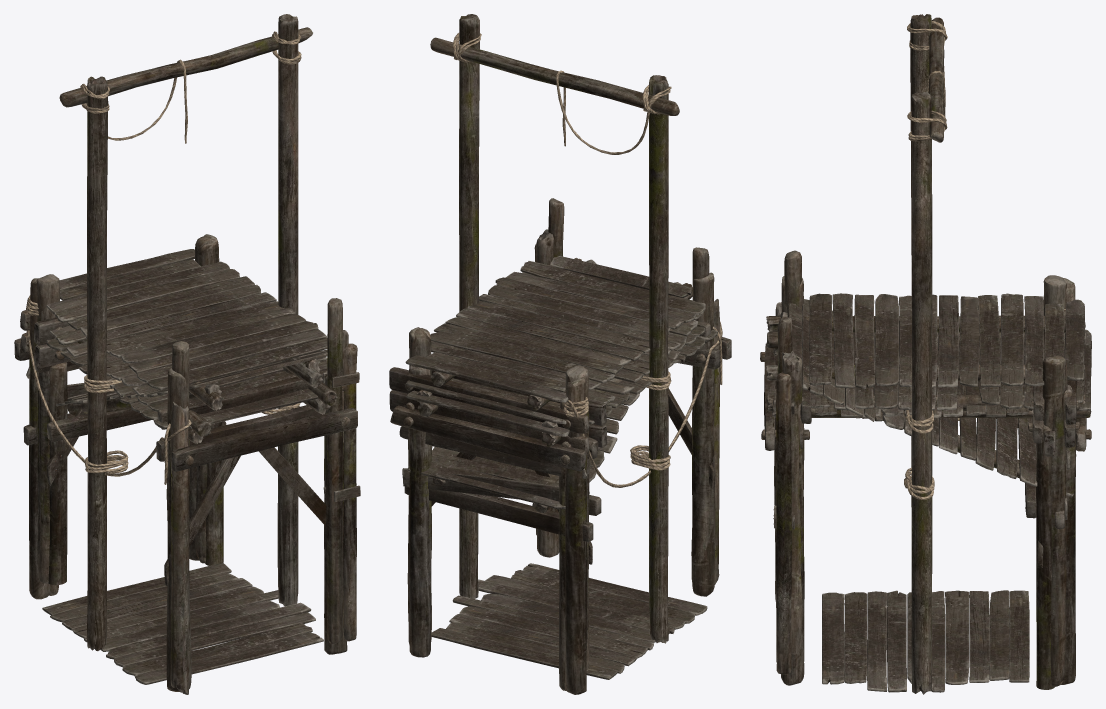
The model's file is modular_wooden_pier.glb.
The picture shows the model from 3 angles, left to right: view 1: azimuth 30°, elevation 25°; view 2: azimuth 150°, elevation 25°; view 3: azimuth 270°, elevation 25°; orthographic projection. The views are drawn at different scales.
Visible parts, largest first — view 1: modular_wooden_pier_g_lod0, modular_wooden_pier_d_lod0, modular_wooden_pier_b_lod0, modular_wooden_pier_f_lod0, modular_wooden_pier_a_lod0, modular_wooden_pier_c_lod0, modular_wooden_pier_e_lod0; view 2: modular_wooden_pier_b_lod0, modular_wooden_pier_d_lod0, modular_wooden_pier_g_lod0, modular_wooden_pier_f_lod0, modular_wooden_pier_a_lod0, modular_wooden_pier_c_lod0, modular_wooden_pier_e_lod0; view 3: modular_wooden_pier_b_lod0, modular_wooden_pier_f_lod0, modular_wooden_pier_d_lod0, modular_wooden_pier_a_lod0, modular_wooden_pier_g_lod0, modular_wooden_pier_c_lod0, modular_wooden_pier_e_lod0.
Boxes of the visible parts, x1,y1,x2,y2 form: modular_wooden_pier_g_lod0: (14,278,360,694); modular_wooden_pier_d_lod0: (59,14,312,651); modular_wooden_pier_b_lod0: (20,234,327,559); modular_wooden_pier_f_lod0: (42,563,323,684); modular_wooden_pier_a_lod0: (23,330,348,585); modular_wooden_pier_c_lod0: (20,236,337,583); modular_wooden_pier_e_lod0: (49,368,347,691); modular_wooden_pier_b_lod0: (389,259,704,643); modular_wooden_pier_d_lod0: (430,14,679,643); modular_wooden_pier_g_lod0: (390,198,731,694); modular_wooden_pier_f_lod0: (431,563,707,679); modular_wooden_pier_a_lod0: (404,229,710,541); modular_wooden_pier_c_lod0: (389,326,704,668); modular_wooden_pier_e_lod0: (536,272,715,690); modular_wooden_pier_b_lod0: (766,275,1085,685); modular_wooden_pier_f_lod0: (822,590,1029,692); modular_wooden_pier_d_lod0: (904,14,947,694); modular_wooden_pier_a_lod0: (780,250,1073,689); modular_wooden_pier_g_lod0: (760,278,1091,684); modular_wooden_pier_c_lod0: (766,307,1085,686); modular_wooden_pier_e_lod0: (781,276,1065,685).
Size of what is drawn, in the model's own units: 3.1 by 7 by 3.52.
3 materials, 3 textured.
